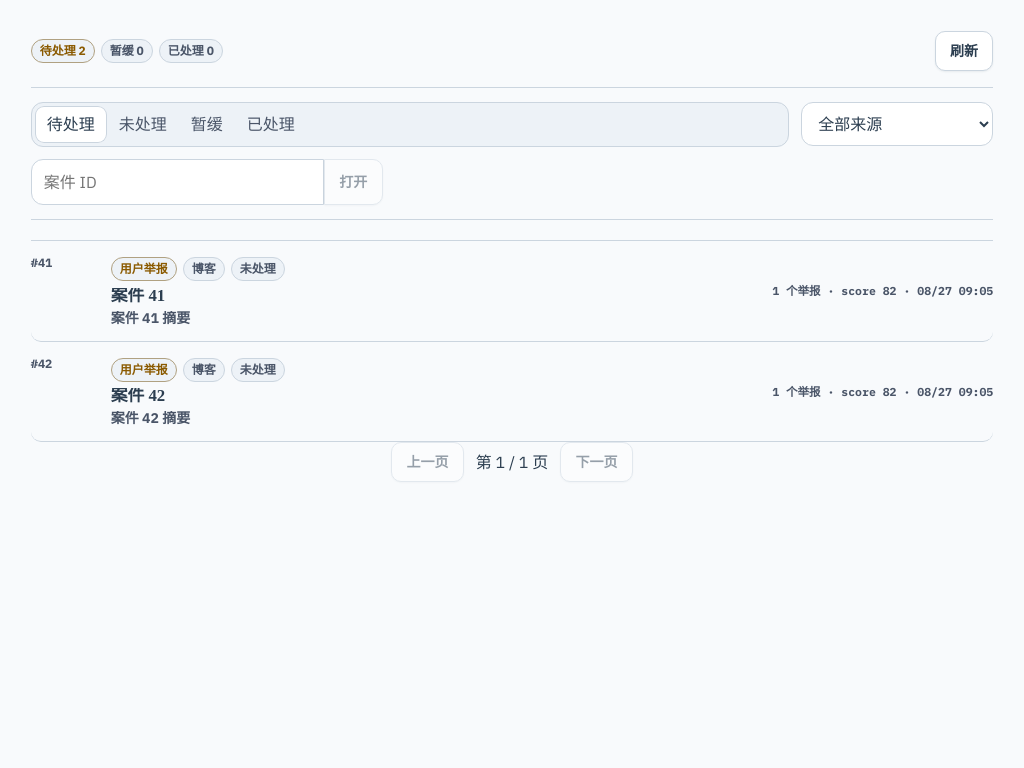
Test: ReviewWorkbench › moves from a text queue to one focused case and then to the successor
This screenshot has width=1024, height=768.
Click the button "案件 41". click: click(144, 269)
box: [31, 241, 993, 342]
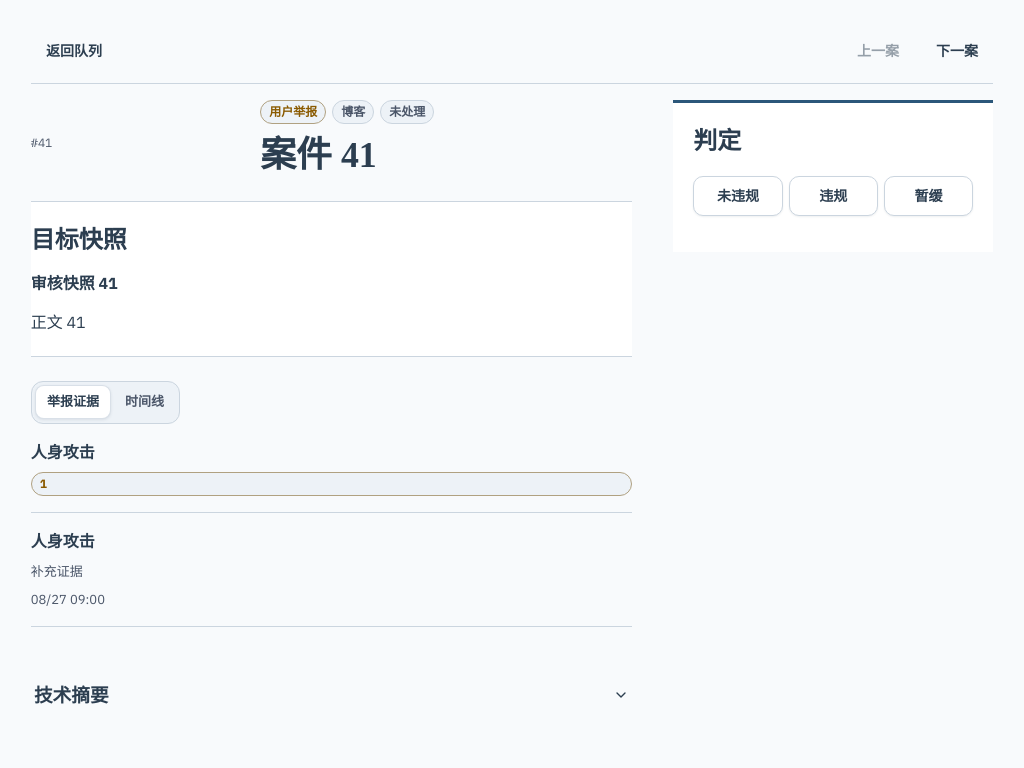
Expected: the heading "案件 41" is shown, [260, 135, 377, 175]
Expected: the text "审核快照 41" is shown, [31, 273, 118, 293]
Click the button "未违规". click: click(738, 196)
box: [693, 176, 783, 216]
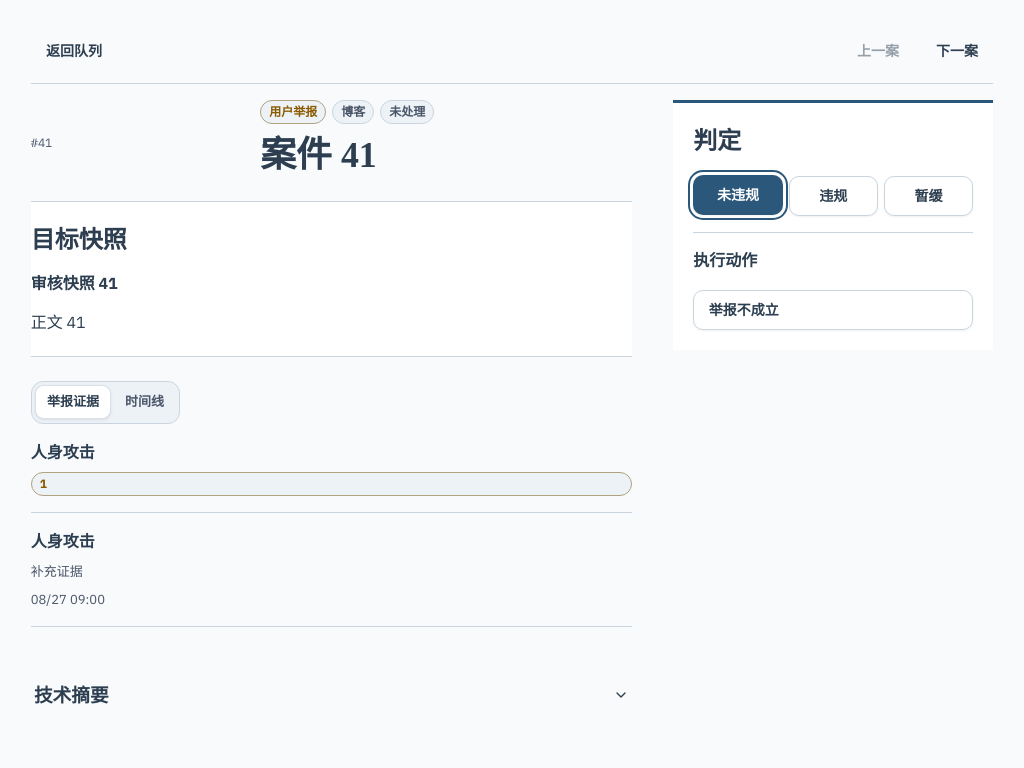
Expected: the button "举报不成立" is shown
Click the button "举报不成立". click: click(744, 310)
box: [693, 290, 973, 330]
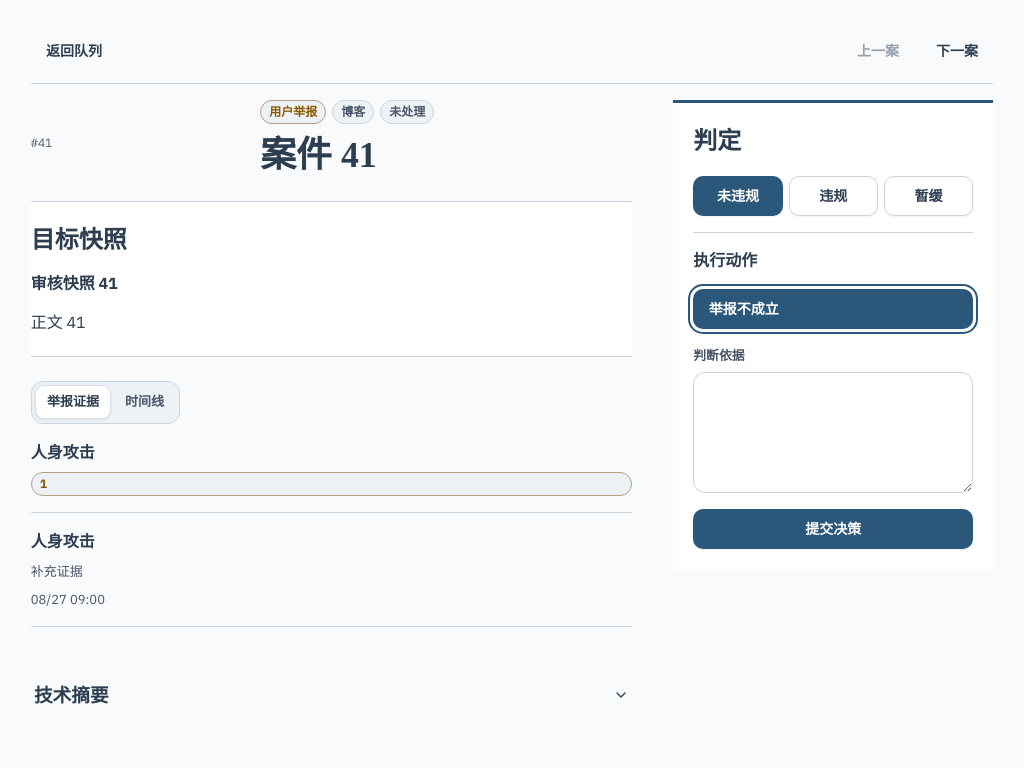
Click the button "提交决策". click: click(833, 529)
box: [693, 509, 973, 549]
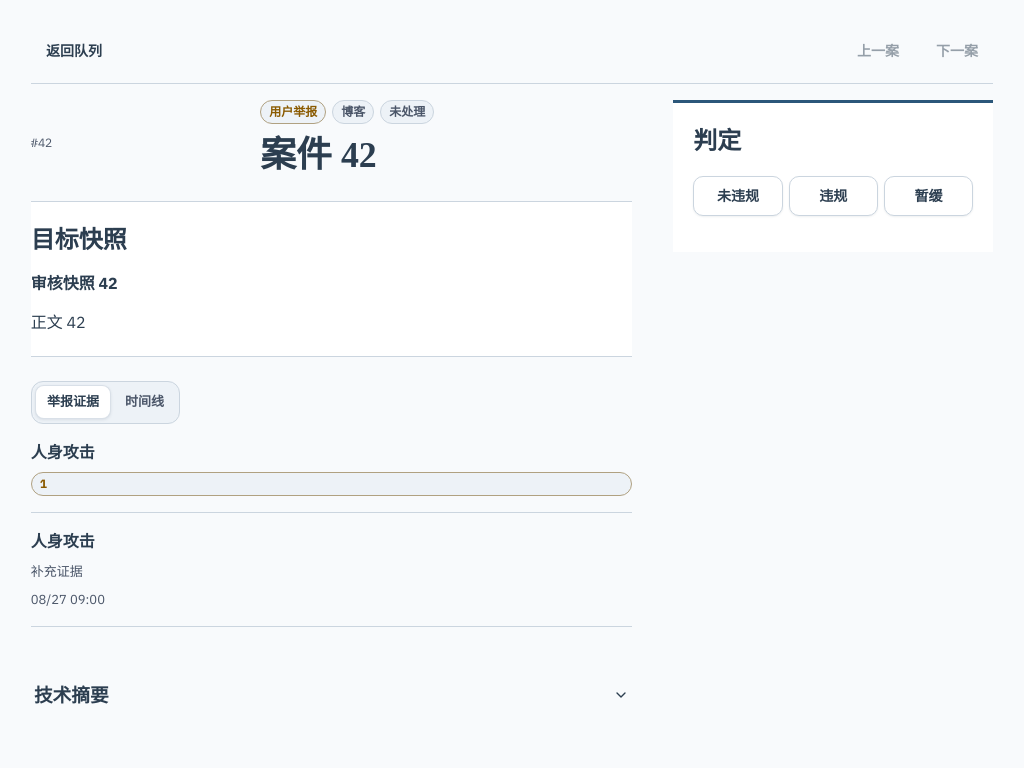
Expected: the heading "案件 42" is shown, [260, 135, 377, 175]
